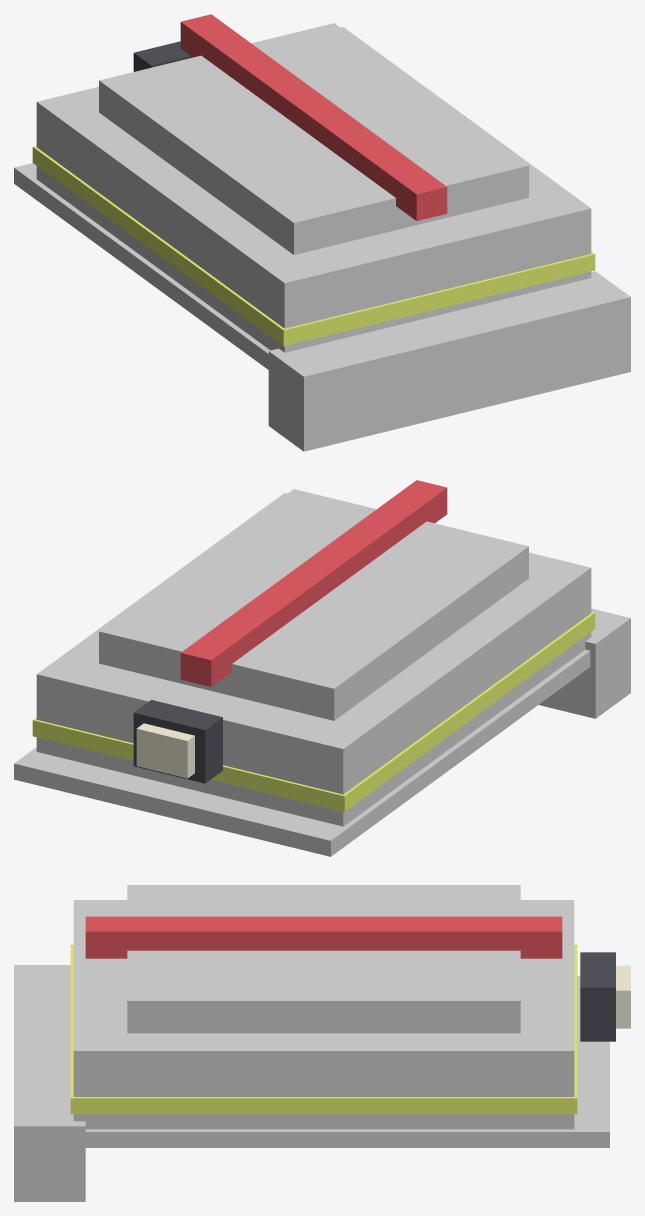
Rendered from capacete_resgate.glb.
The picture shows the model from 3 angles, top to bottom: view 1: azimuth 30°, elevation 25°; view 2: azimuth 150°, elevation 25°; view 3: azimuth 270°, elevation 25°; orthographic projection.
Visible parts, largest first — view 1: capacete_resgate; view 2: capacete_resgate; view 3: capacete_resgate.
Boxes of the visible parts, x1,y1,x2,y2 form: capacete_resgate: (14,14,630,451); capacete_resgate: (14,480,630,856); capacete_resgate: (14,885,630,1201).
Bounding box in the file's own units: 0.64 × 0.365 × 1.03.
